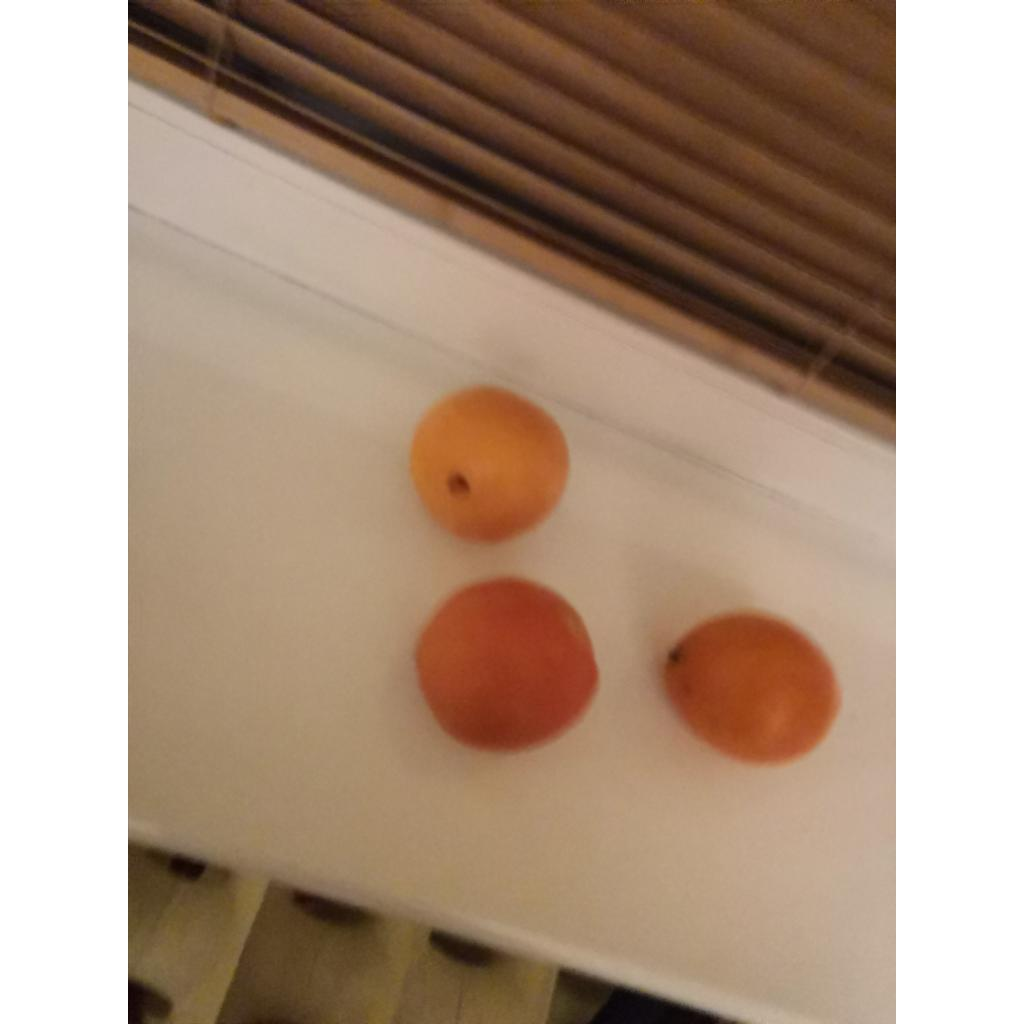orange: (416, 578, 598, 750), (664, 612, 840, 764), (410, 386, 568, 542)
